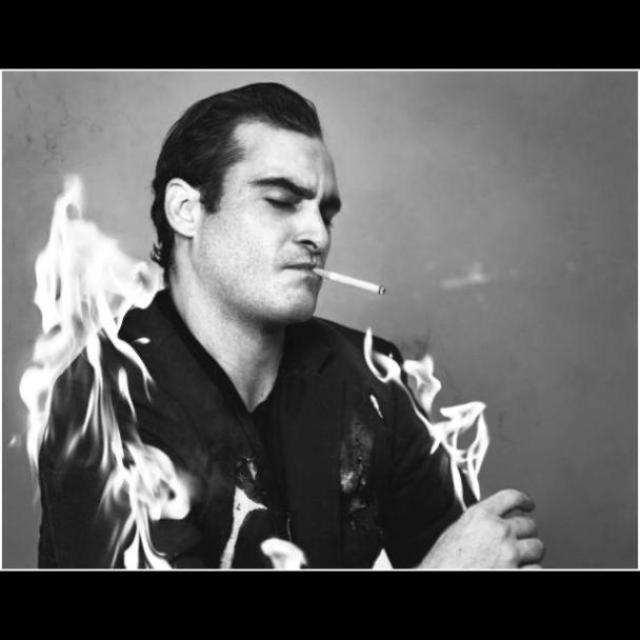rokok: (303, 258, 391, 300)
